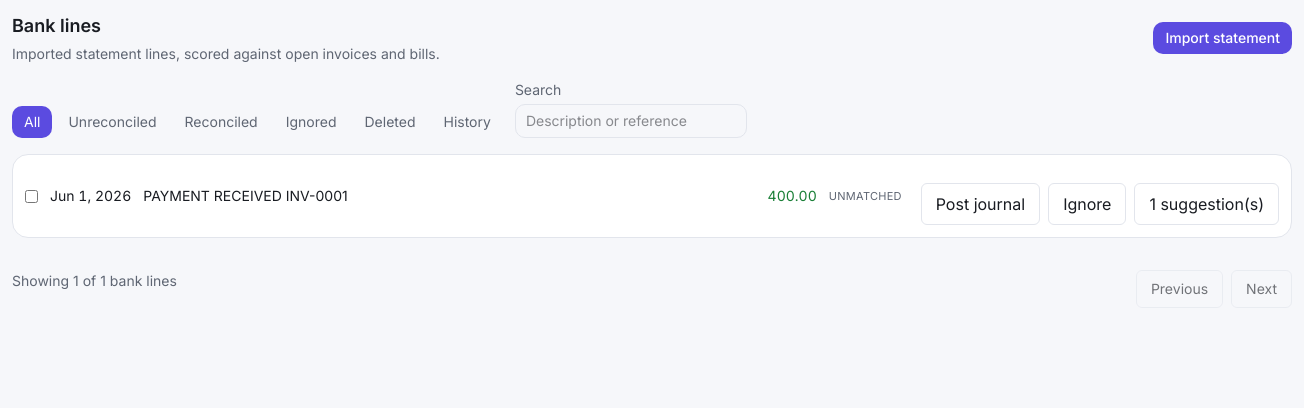
Test case: BankTransactionsPage › renders the three score reasons for a suggestion
The width and height of the screenshot is (1304, 408).
Expected: the text "PAYMENT RECEIVED INV-0001" is shown, top-left (143, 187), bottom-right (348, 204)
Click the button "1 suggestion(s)". click: (1207, 204)
box: top-left (1134, 183), bottom-right (1279, 225)
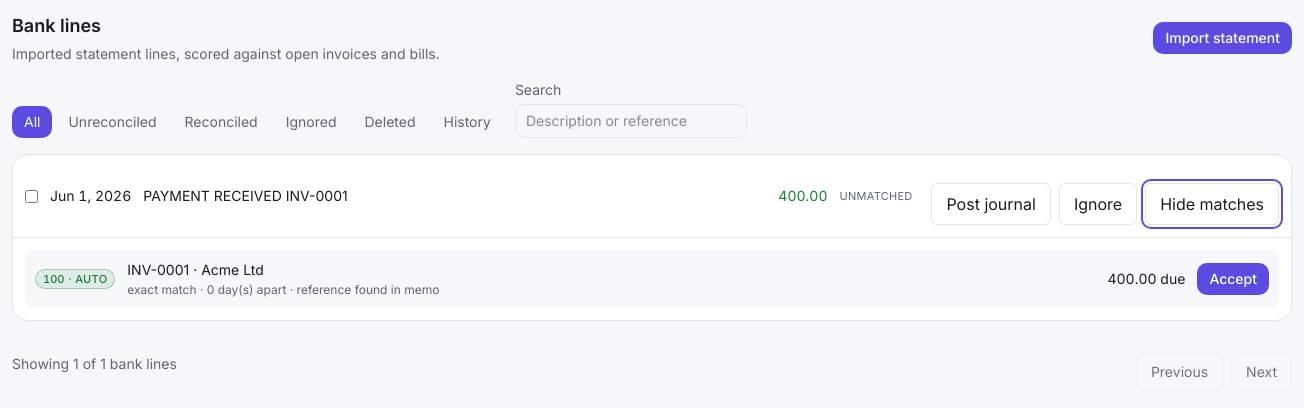
Expected: the text "exact match · 0 day(s) apart · reference found in memo" is shown, top-left (127, 282), bottom-right (439, 297)
